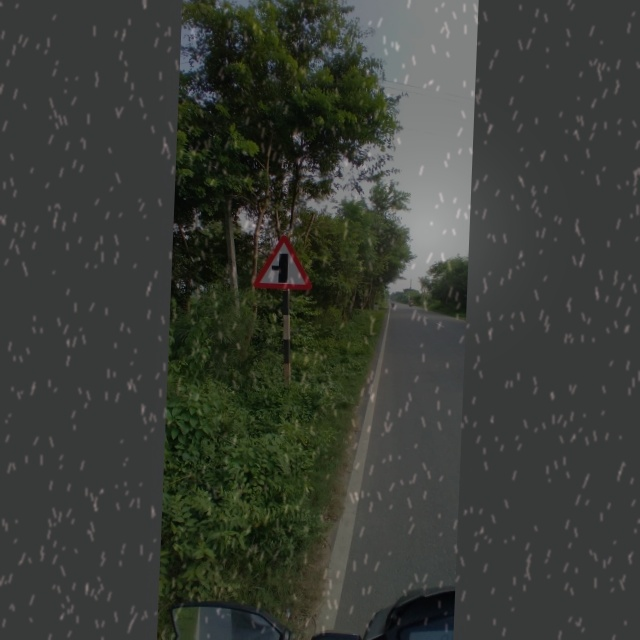Side_Road_Left: (248, 231, 320, 298)
